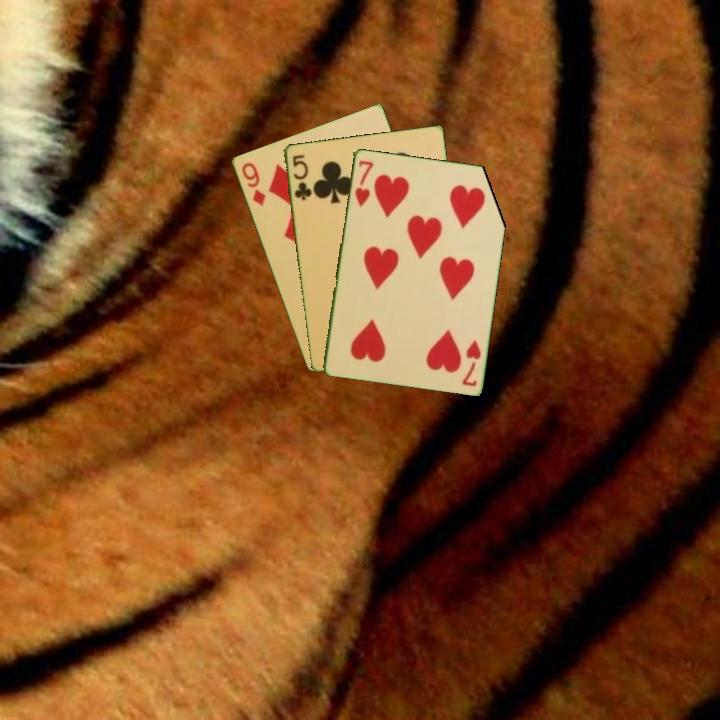5c: (289, 151, 314, 203)
7h: (351, 156, 376, 209), (458, 337, 483, 389)
9d: (238, 159, 268, 209)
